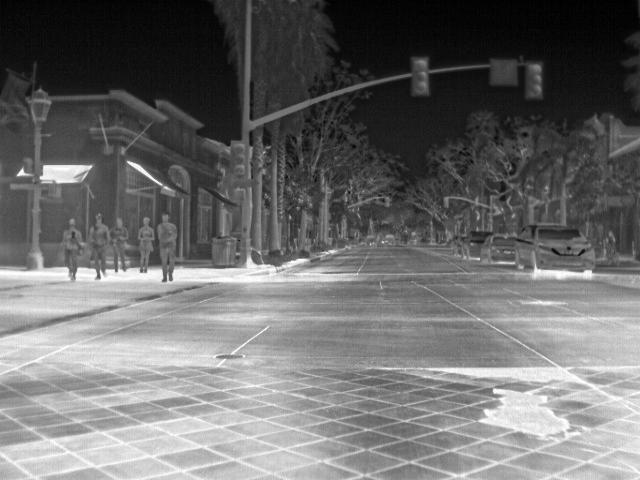car: (511, 220, 596, 273), (482, 232, 520, 264), (467, 230, 486, 257)
person: (155, 210, 179, 283), (61, 215, 87, 281), (87, 214, 110, 278), (111, 214, 131, 274), (138, 216, 156, 272), (602, 230, 619, 259)
